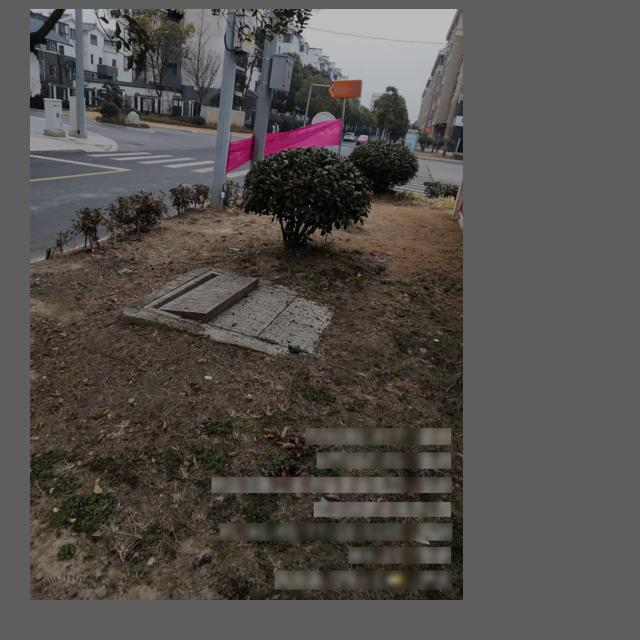uncovered: (143, 270, 333, 356)
